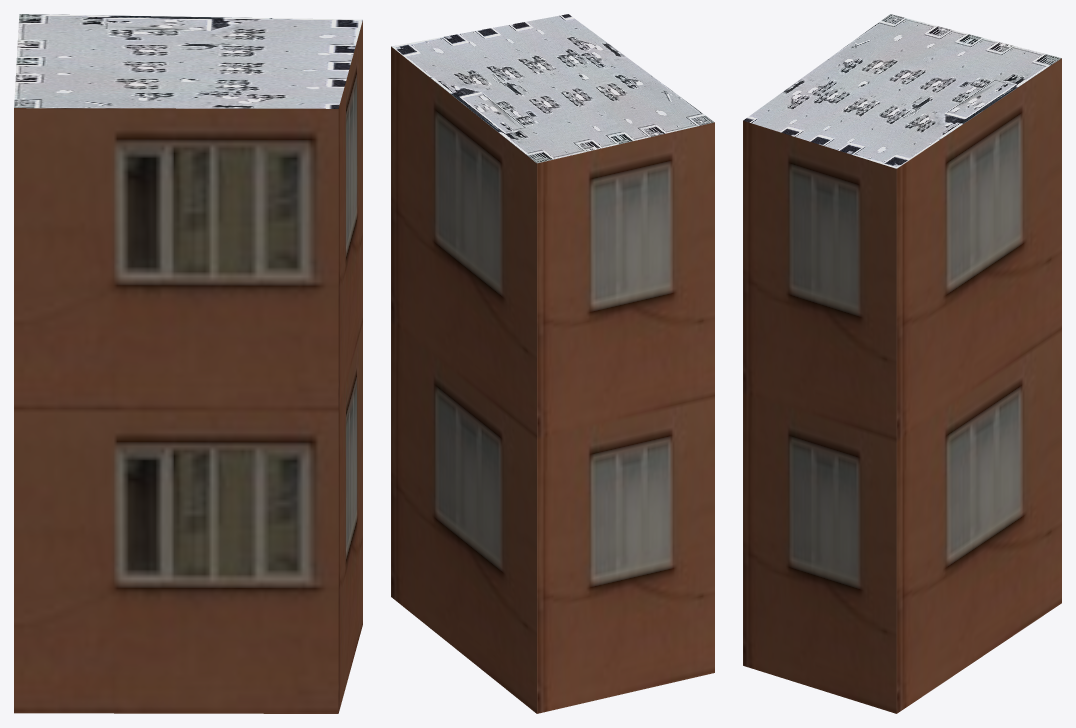
File: ResTex__4027.fbx
The picture shows the model from 3 angles, left to right: view 1: azimuth 30°, elevation 25°; view 2: azimuth 150°, elevation 25°; view 3: azimuth 270°, elevation 25°; orthographic projection. The views are drawn at different scales.
Parts seen in each view (by area): view 1: CityEngineMaterial_20_m, CityEngineMaterial_4_m; view 2: CityEngineMaterial_20_m, CityEngineMaterial_4_m; view 3: CityEngineMaterial_20_m, CityEngineMaterial_4_m.
Part boxes in pixels (left/top/right/bottom): CityEngineMaterial_20_m: left=14, top=20, right=362, bottom=713; CityEngineMaterial_4_m: left=14, top=14, right=362, bottom=108; CityEngineMaterial_20_m: left=391, top=46, right=714, bottom=713; CityEngineMaterial_4_m: left=391, top=14, right=714, bottom=163; CityEngineMaterial_20_m: left=743, top=58, right=1061, bottom=713; CityEngineMaterial_4_m: left=743, top=14, right=1061, bottom=168.
Bounding box in the file's own units: 3.66 × 6 × 3.18.
Materials: 2 (2 with a texture image).
